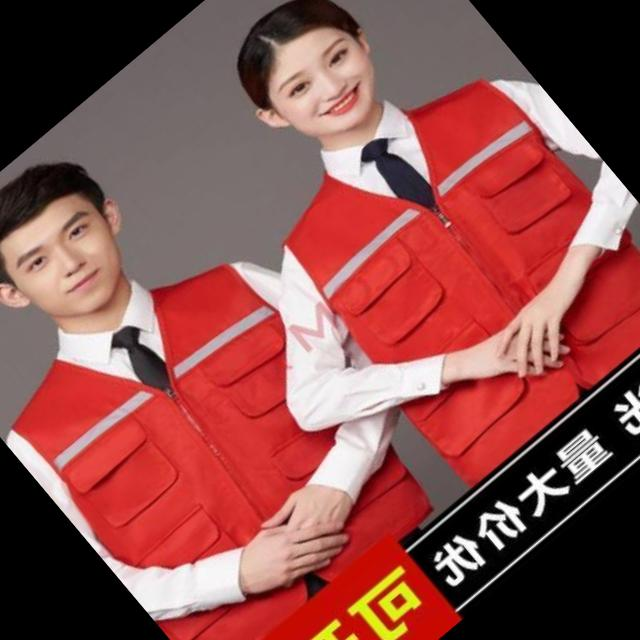safety_vest: (0, 217, 444, 640), (256, 39, 640, 484)
vehicle: (0, 75, 473, 640), (113, 0, 640, 503)
